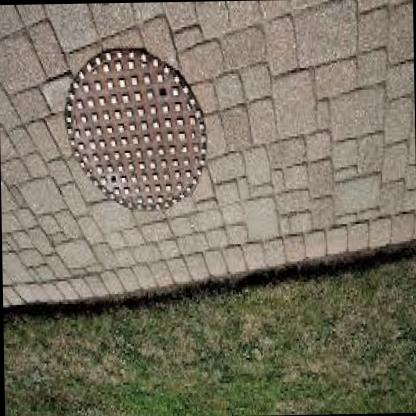manholes: (46, 9, 218, 240)
